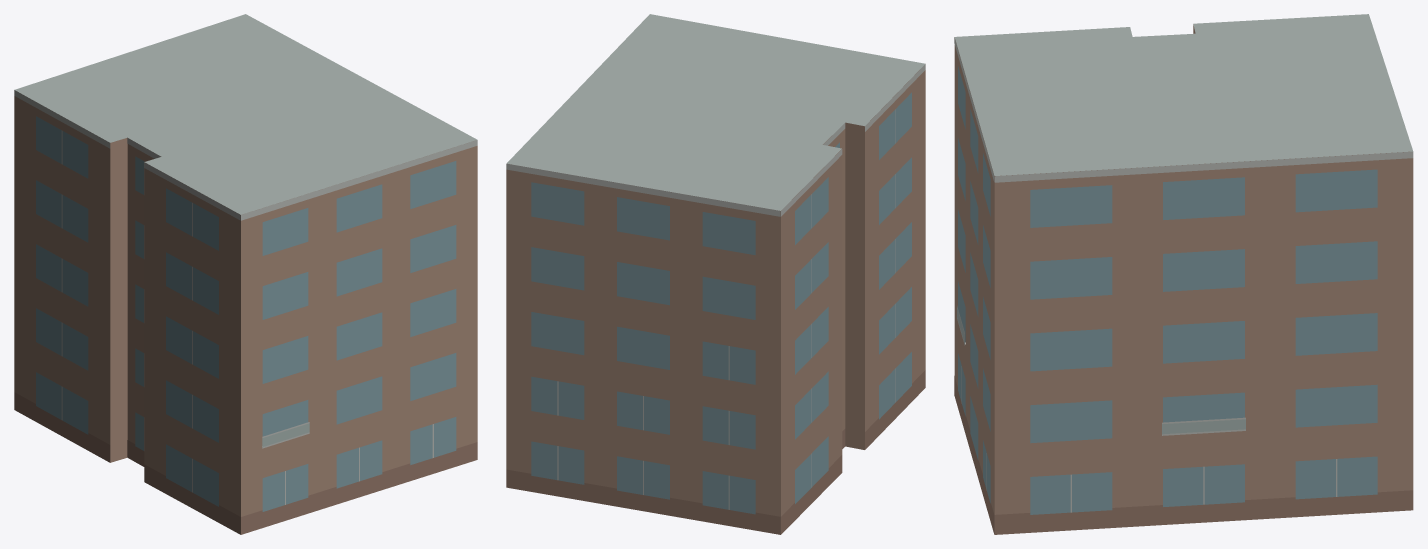
The model's file is survey-upis-32523915.glb.
3 views of the same model, side by side, from view 1: azimuth 30°, elevation 25°; view 2: azimuth 150°, elevation 25°; view 3: azimuth 270°, elevation 25° (orthographic). The views are drawn at different scales.
Visible parts, largest first — view 1: survey-upis-32523915.tmp; view 2: survey-upis-32523915.tmp; view 3: survey-upis-32523915.tmp.
Boxes of the visible parts, x1,y1,x2,y2 form: survey-upis-32523915.tmp: (14, 14, 477, 534); survey-upis-32523915.tmp: (506, 14, 925, 534); survey-upis-32523915.tmp: (954, 14, 1413, 534).
Size of the model in its own units: 12.8 by 13.2 by 15.31.
